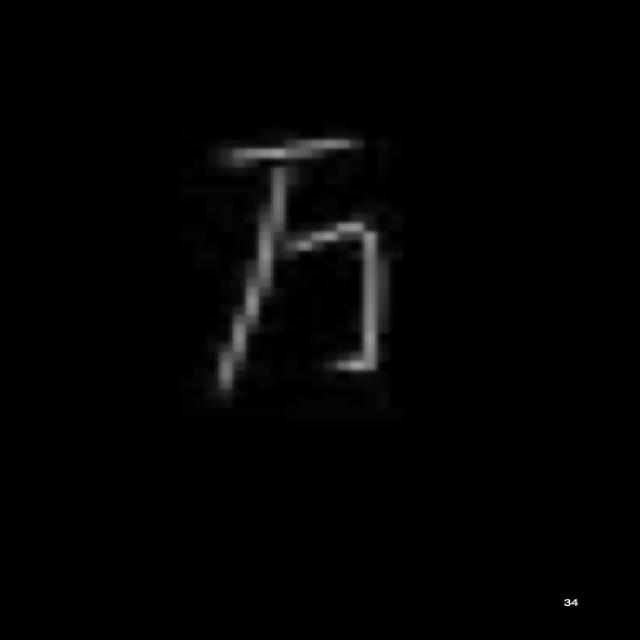10000 -a ten thousand-: (188, 124, 399, 410)
